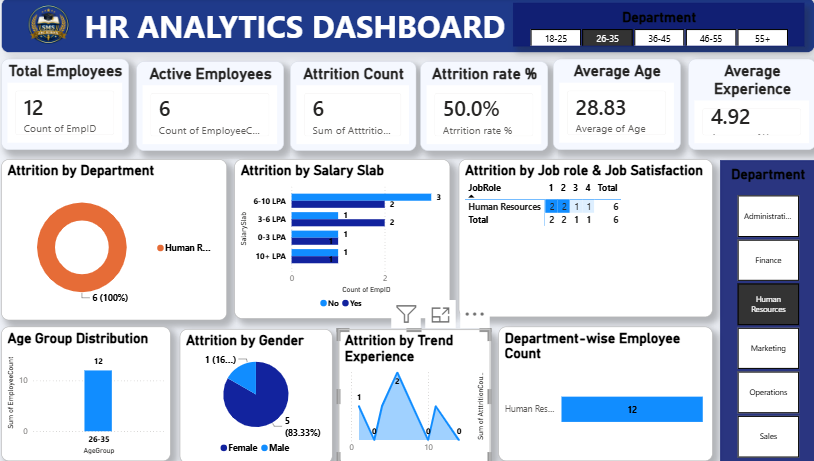

What the dashboard file says about the page in this screenshot:
{"tool":"powerbi","page":{"name":"Page 1","canvas":[1280,720],"ordinal":0},"visuals":[{"type":"textbox","box":[10,0,1259,85],"z":0},{"type":"image","box":[10.3,2.6,146.4,84.8],"z":1000},{"type":"cardVisual","title":"Total Employees","fields":{"Data":["CountNonNull(HR_Analytics-4.EmpID)"]},"box":[10.3,94.9,197.4,141],"z":2000},{"type":"cardVisual","title":"Active Employees","fields":{"Data":["CountNonNull(HR_Analytics-4.EmployeeCount)"]},"box":[217.9,97.4,228.2,138.4],"z":3000},{"type":"cardVisual","title":"Attrition Count","fields":{"Data":["Sum(HR_Analytics-4.AtttritionCount)"]},"box":[456.4,97.4,194.9,138.4],"z":4000},{"type":"cardVisual","title":"Attrition rate %","fields":{"Data":["HR_Analytics-4.Atrrition rate %"]},"box":[658.9,97.4,197.4,138.4],"z":5000},{"type":"cardVisual","title":"Average Age","fields":{"Data":["Avg(HR_Analytics-4.Age)"]},"box":[864.1,94.9,197.4,141],"z":6000},{"type":"cardVisual","title":"Average Experience","fields":{"Data":["Avg(HR_Analytics-4.YearsatCompany)"]},"box":[1071.8,94.9,197.4,141],"z":7000},{"type":"donutChart","title":"Attrition by Department","fields":{"Category":["HR_Analytics-4.Department"],"Y":["Sum(HR_Analytics-4.AtttritionCount)"]},"box":[10.3,249.2,349.4,249.2],"z":8000},{"type":"clusteredBarChart","title":"Attrition by Salary Slab","fields":{"Category":["HR_Analytics-4.SalarySlab"],"Y":["CountNonNull(HR_Analytics-4.EmpID)"],"Series":["HR_Analytics-4.Attrition"]},"box":[370,249.2,334,246.6],"z":9000},{"type":"pivotTable","title":"Attrition by Job role & Job Satisfaction","fields":{"Rows":["HR_Analytics-4.JobRole"],"Values":["Sum(HR_Analytics-4.AtttritionCount)"],"Columns":["HR_Analytics-4.JobSatisfaction"]},"box":[716.8,249.2,393.1,244.1],"z":10000},{"type":"columnChart","title":"Age Group Distribution","fields":{"Category":["HR_Analytics-4.AgeGroup"],"Y":["Sum(HR_Analytics-4.EmployeeCount)"]},"box":[10.3,508.7,262.1,208.1],"z":11000},{"type":"pieChart","title":"Attrition by Gender","fields":{"Category":["HR_Analytics-4.Gender"],"Y":["Sum(HR_Analytics-4.AtttritionCount)"]},"box":[285.2,511.3,236.4,208.1],"z":12000},{"type":"areaChart","title":"Attrition by Trend Experience","fields":{"Category":["HR_Analytics-4.TotalExperience(Years)"],"Y2":["Sum(HR_Analytics-4.AtttritionCount)"]},"box":[531.8,511.3,236.4,208.1],"z":13000},{"type":"funnel","title":"Department-wise Employee Count","fields":{"Category":["HR_Analytics-4.Department"],"Y":["CountNonNull(HR_Analytics-4.EmpID)"]},"box":[778.5,508.7,331.4,208.1],"z":14000},{"type":"slicer","title":"Department","fields":{"Values":["HR_Analytics-4.AgeGroup"]},"box":[801.6,7.7,449.6,66.8],"z":15000},{"type":"slicer","title":"Department","fields":{"Values":["HR_Analytics-4.Department"]},"box":[1122.8,251.8,146.4,467.6],"z":16000}]}

Visuals, with their boxes in screenshot pixels (x1, y1, x2, y2), scaled from the page's 1280x720 canvas onto the 814x461 screenshot:
textbox: [6,0,807,54]
image: [7,2,100,56]
"Total Employees" cardVisual: [7,61,132,151]
"Active Employees" cardVisual: [139,62,284,151]
"Attrition Count" cardVisual: [290,62,414,151]
"Attrition rate %" cardVisual: [419,62,545,151]
"Average Age" cardVisual: [550,61,675,151]
"Average Experience" cardVisual: [682,61,807,151]
"Attrition by Department" donutChart: [7,160,229,319]
"Attrition by Salary Slab" clusteredBarChart: [235,160,448,317]
"Attrition by Job role & Job Satisfaction" pivotTable: [456,160,706,316]
"Age Group Distribution" columnChart: [7,326,173,459]
"Attrition by Gender" pieChart: [181,327,332,460]
"Attrition by Trend Experience" areaChart: [338,327,489,460]
"Department-wise Employee Count" funnel: [495,326,706,459]
"Department" slicer: [510,5,796,48]
"Department" slicer: [714,161,807,460]
